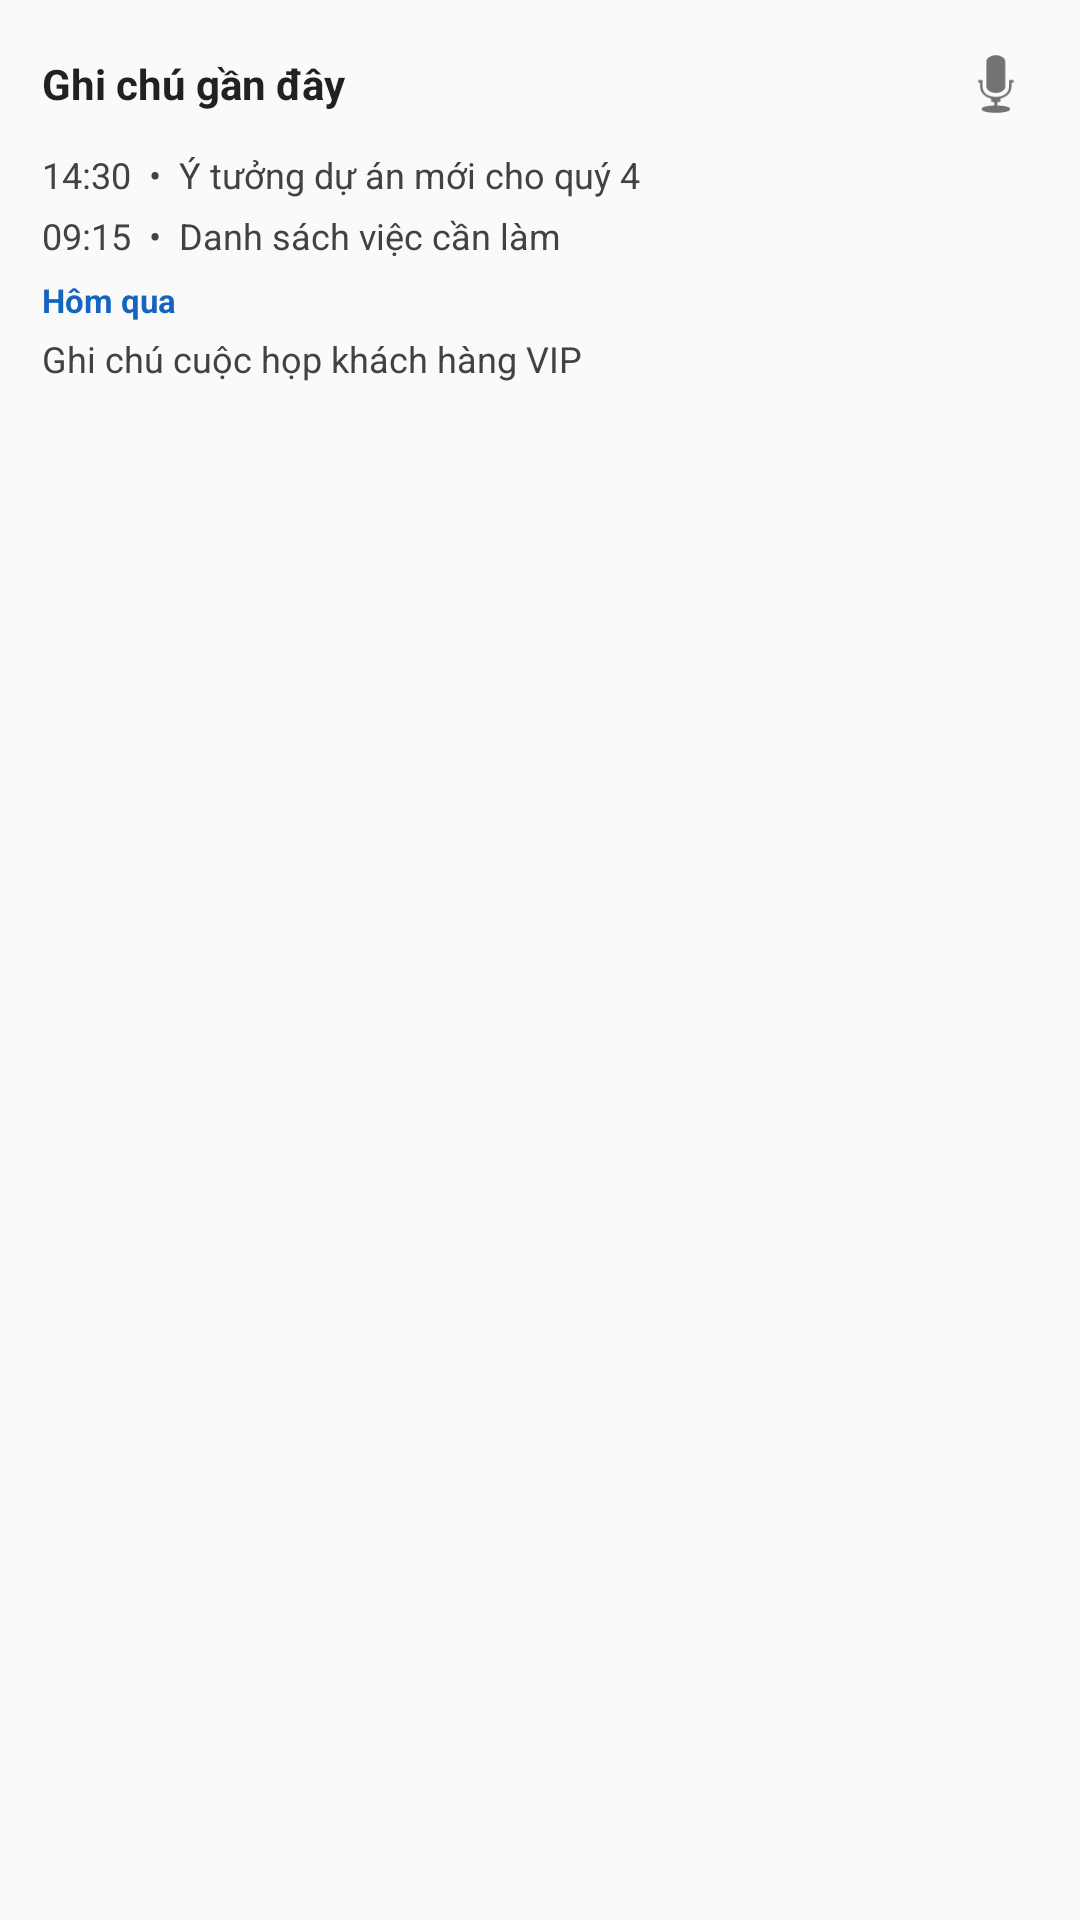

Icons on this 1080 × 1920 Android screen, each with the point to tap as [x,y]:
Ghi chú nhanh bằng giọng nói: [996,84]
